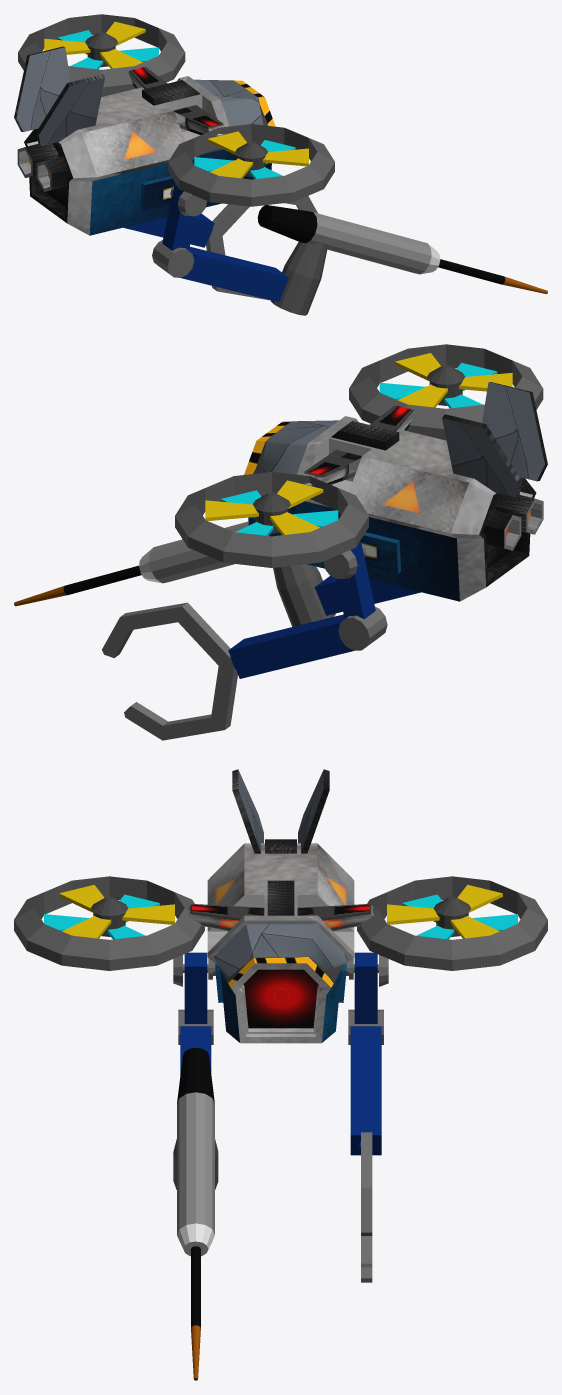
The model's file is Drone.fbx.
3 views of the same model, one above another, from view 1: azimuth 30°, elevation 25°; view 2: azimuth 150°, elevation 25°; view 3: azimuth 270°, elevation 25° (orthographic). The views are drawn at different scales.
Visible parts, largest first — view 1: Body, RightArm2, PropellerR1, PropellerL1, LeftArm3, RightArm1, LeftArm2, PropellerL2, PropellerR2; view 2: Body, RightArm2, LeftArm3, LeftArm2, PropellerL1, PropellerR1, LeftArm1, PropellerL2, PropellerR2; view 3: Body, RightArm2, LeftArm2, PropellerL1, PropellerR1, LeftArm3, LeftArm1, RightArm1, PropellerL2, PropellerR2.
Boxes of the visible parts, left/top/right/bottom form: Body: left=14, top=14, right=334, bottom=235; RightArm2: left=152, top=205, right=547, bottom=315; PropellerR1: left=207, top=131, right=308, bottom=178; PropellerL1: left=44, top=21, right=145, bottom=68; LeftArm3: left=206, top=196, right=317, bottom=300; RightArm1: left=162, top=184, right=195, bottom=250; LeftArm2: left=123, top=213, right=214, bottom=247; PropellerL2: left=57, top=30, right=158, bottom=69; PropellerR2: left=194, top=140, right=295, bottom=178; Body: left=175, top=344, right=547, bottom=601; RightArm2: left=14, top=521, right=420, bottom=626; LeftArm3: left=102, top=602, right=237, bottom=740; LeftArm2: left=228, top=606, right=387, bottom=678; PropellerL1: left=205, top=480, right=323, bottom=535; PropellerR1: left=395, top=353, right=512, bottom=407; LeftArm1: left=336, top=542, right=375, bottom=619; PropellerL2: left=220, top=490, right=338, bottom=535; PropellerR2: left=379, top=362, right=497, bottom=408; Body: left=14, top=769, right=547, bottom=1043; RightArm2: left=173, top=1009, right=218, bottom=1380; LeftArm2: left=348, top=1009, right=383, bottom=1155; PropellerL1: left=387, top=884, right=502, bottom=938; PropellerR1: left=59, top=884, right=174, bottom=938; LeftArm3: left=361, top=1132, right=372, bottom=1282; LeftArm1: left=354, top=952, right=377, bottom=1023; RightArm1: left=184, top=952, right=207, bottom=1023; PropellerL2: left=402, top=894, right=517, bottom=939; PropellerR2: left=44, top=894, right=159, bottom=939.
Bounding box in the file's own units: 344 × 217 × 288.
Materials: 13 (1 with a texture image).
